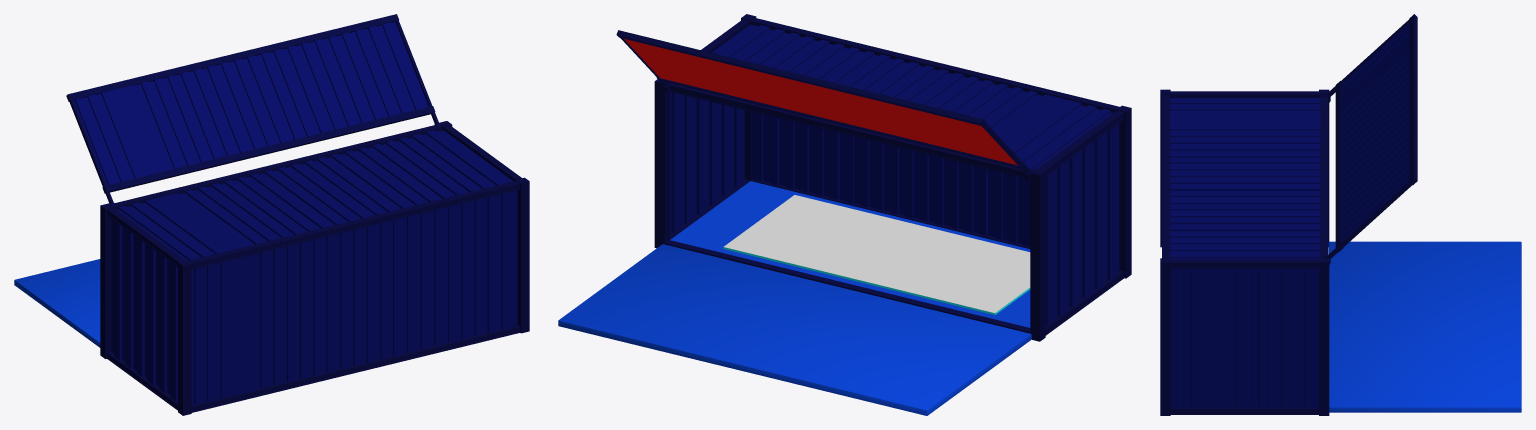
File: Container_coche.FBX
3 renders of one model, left to right at view 1: azimuth 30°, elevation 25°; view 2: azimuth 150°, elevation 25°; view 3: azimuth 270°, elevation 25°, orthographic. The views are drawn at different scales.
Parts seen in each view (by area): view 1: Container_chapa, Vigas, Tarima; view 2: Container_chapa, Tarima, Vigas, Plataforma, Cartel_texto, Base_container; view 3: Container_chapa, Tarima, Vigas.
Part boxes in pixels (x1,y1,x2,y2): Container_chapa: (73,22,517,404); Vigas: (66,14,529,415); Tarima: (14,259,100,347); Container_chapa: (670,25,1119,325); Tarima: (558,244,1031,415); Vigas: (616,14,1131,341); Plataforma: (723,195,1030,314); Cartel_texto: (624,39,1017,165); Base_container: (670,181,1030,327); Container_chapa: (1170,22,1409,408); Tarima: (1328,241,1521,412); Vigas: (1160,14,1417,415).
Bounding box in the file's own units: 594 × 375 × 525.
